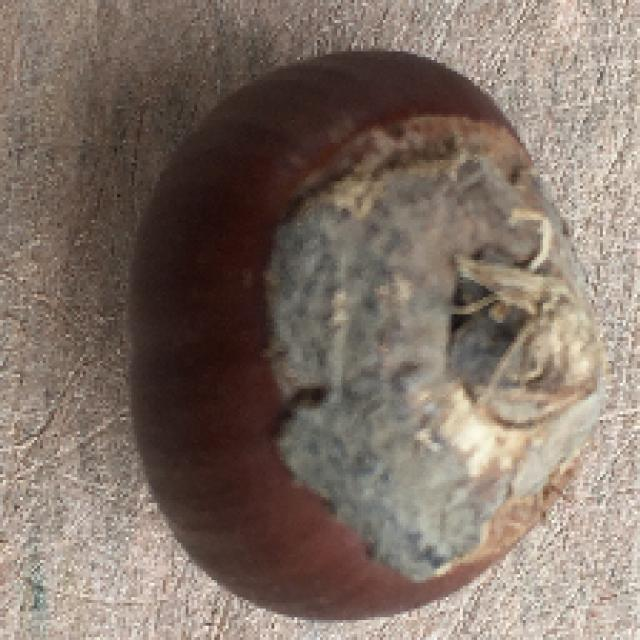damagedHazelnut: (119, 45, 604, 621)
